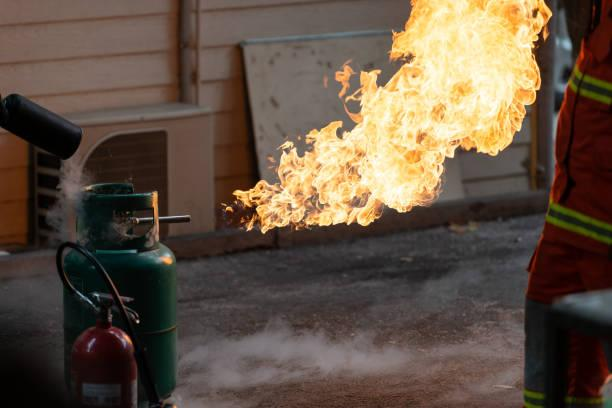Fire: (226, 0, 553, 240)
